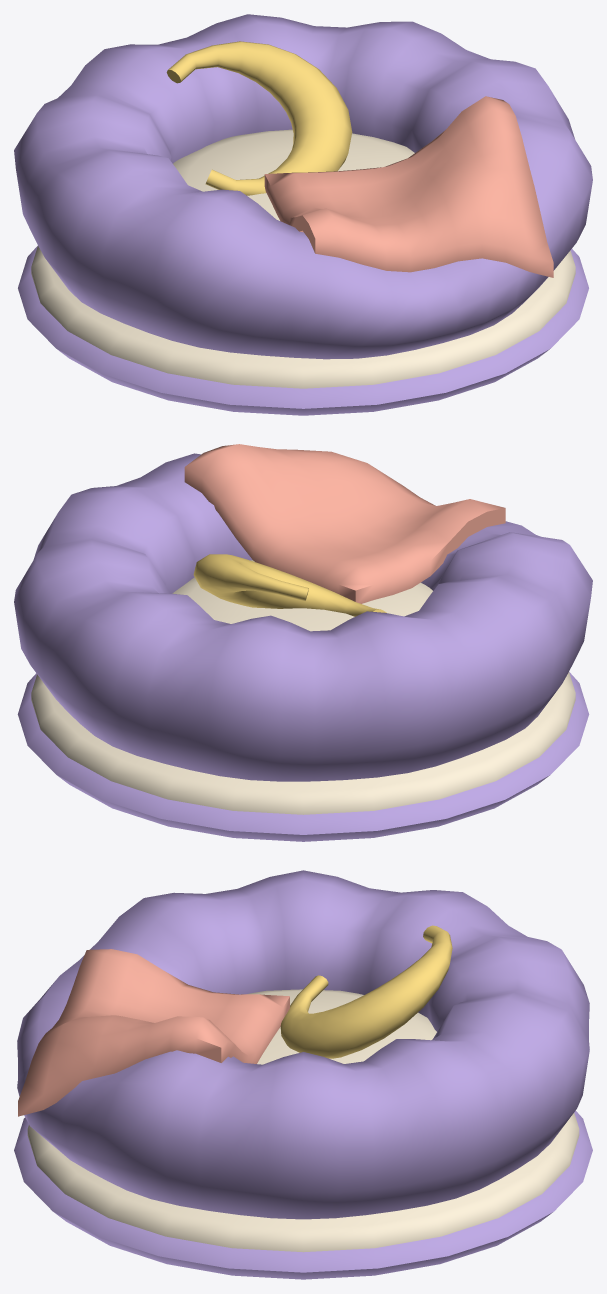
Rendered from ShopBed.fbx.
The picture shows the model from 3 angles, top to bottom: view 1: azimuth 30°, elevation 25°; view 2: azimuth 150°, elevation 25°; view 3: azimuth 270°, elevation 25°; orthographic projection.
Visible parts, largest first — view 1: ShopBed; view 2: ShopBed; view 3: ShopBed.
Boxes of the visible parts, left/top/right/bottom form: ShopBed: left=14, top=14, right=592, bottom=415; ShopBed: left=14, top=444, right=592, bottom=841; ShopBed: left=14, top=870, right=592, bottom=1279.
Bounding box in the file's own units: 0.9474 × 0.3767 × 0.93.
